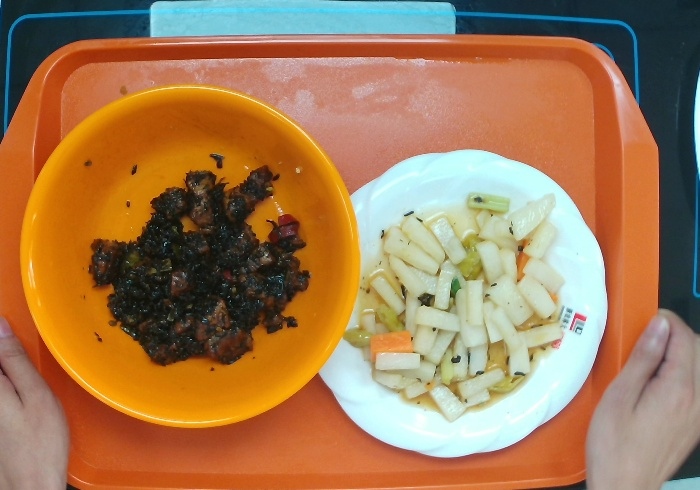ZNLD-Hua_Bian_Wan: (342, 148, 611, 459)
ZNLD-Ju_Se_Tang_Wan: (14, 81, 364, 428)
